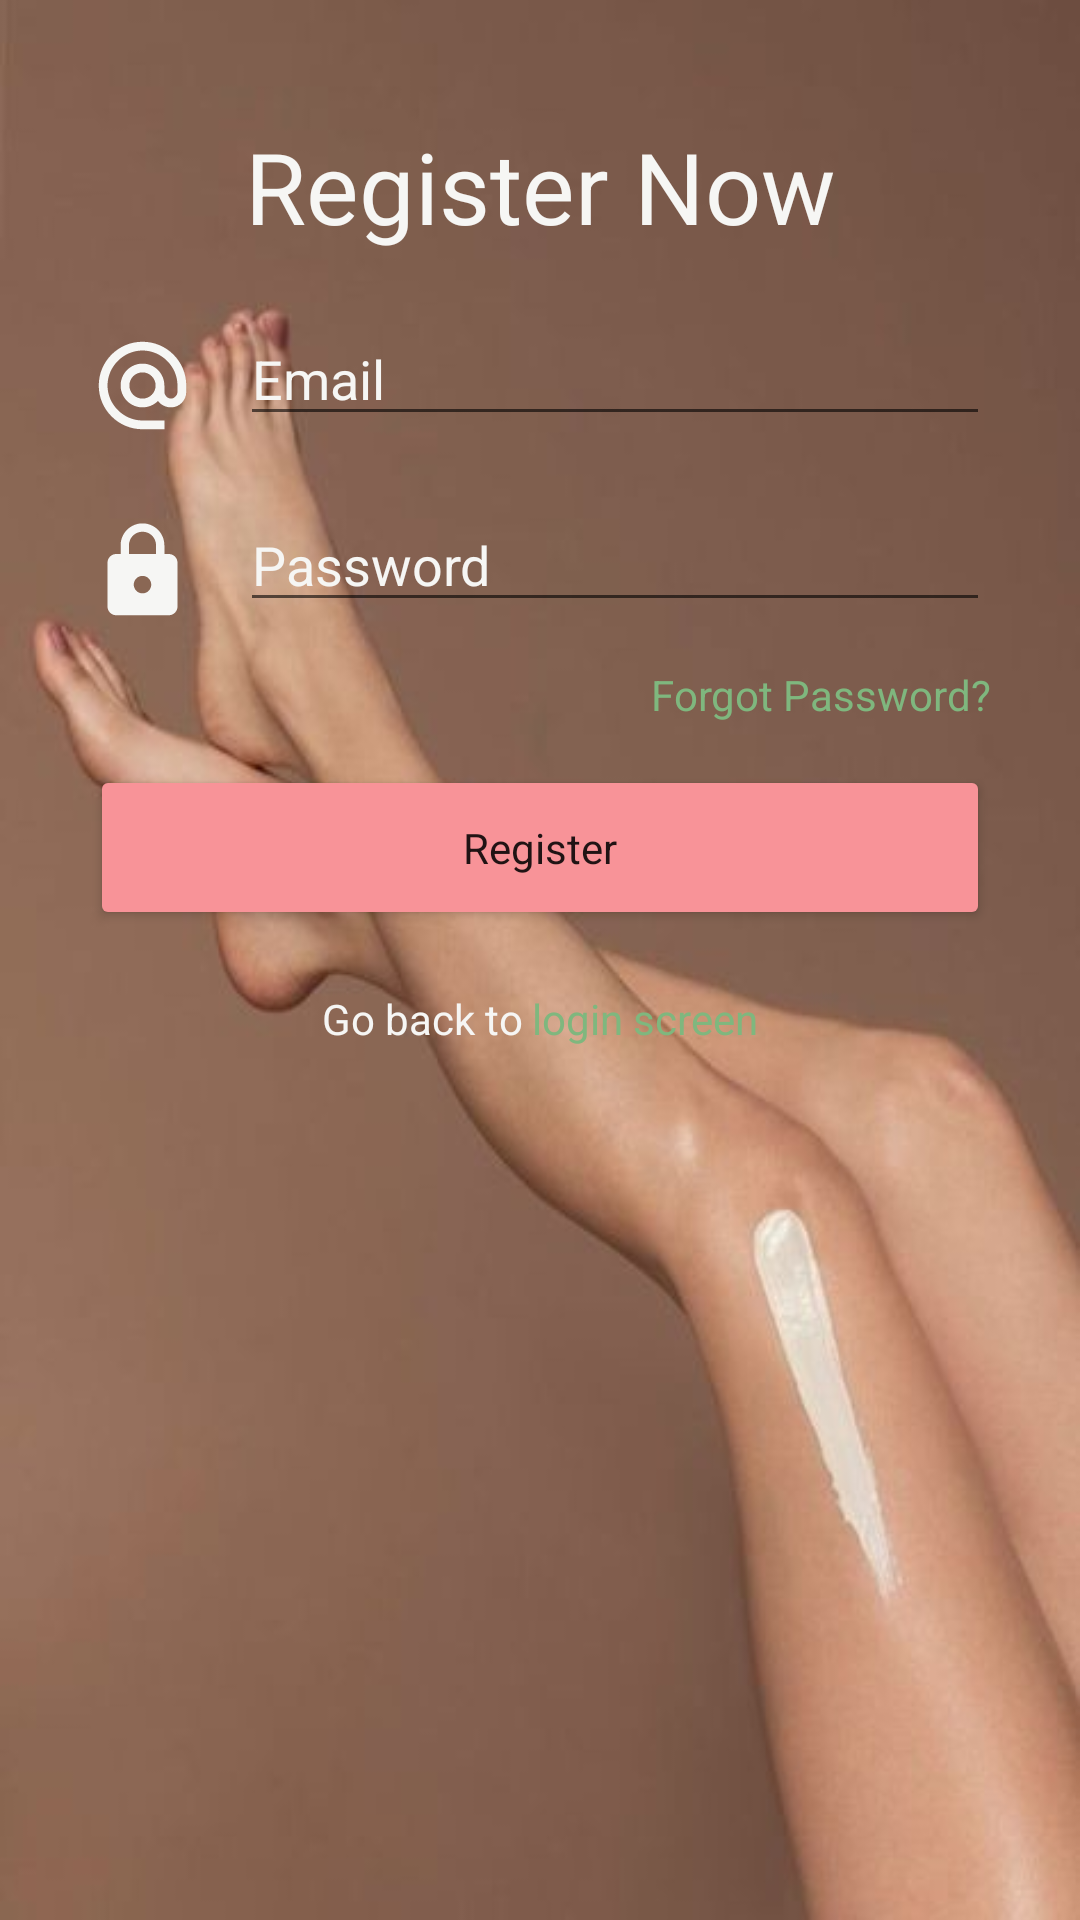

Where to tap for icons on this 1080 x 1920 app screen, as point (x, y):
pword: point (142, 569)
